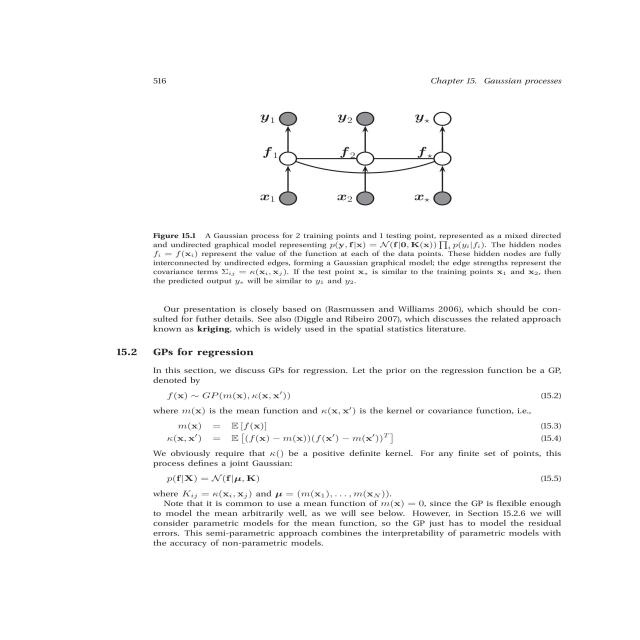diagram: (121, 99, 598, 294)
